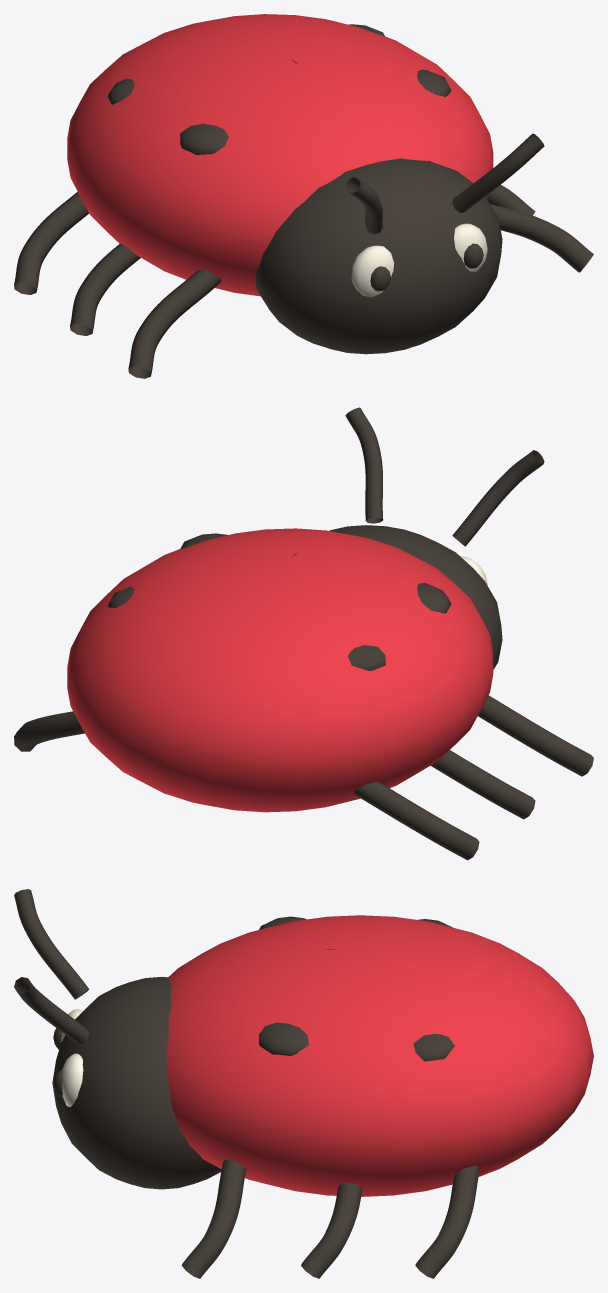
The model's file is bug.glb.
The picture shows the model from 3 angles, top to bottom: view 1: azimuth 30°, elevation 25°; view 2: azimuth 150°, elevation 25°; view 3: azimuth 270°, elevation 25°; orthographic projection. The views are drawn at different scales.
Parts seen in each view (by area): view 1: Bug | red domed shell.001, Bug | head.001, Bug | tiny leg.006, Bug | tiny leg.009, Bug | tiny leg.011, Bug | tiny leg.010, Bug | antenna.003, Bug | bright eye.003, Bug | black spot.005, Bug | antenna.002, Bug | bright eye.002, Bug | tiny leg.008 (+1 smaller); view 2: Bug | red domed shell.001, Bug | head.001, Bug | tiny leg.009, Bug | tiny leg.006, Bug | tiny leg.011, Bug | antenna.002, Bug | antenna.003, Bug | tiny leg.007, Bug | black spot.006, Bug | black spot.005; view 3: Bug | red domed shell.001, Bug | head.001, Bug | tiny leg.010, Bug | tiny leg.007, Bug | tiny leg.008, Bug | antenna.002, Bug | antenna.003, Bug | black spot.007, Bug | bright eye.002, Bug | black spot.004.
Boxes of the visible parts, box(x1,y1,x2,y2) form: Bug | red domed shell.001: box(67, 14, 493, 296); Bug | head.001: box(255, 158, 502, 354); Bug | tiny leg.006: box(128, 269, 221, 378); Bug | tiny leg.009: box(14, 192, 88, 294); Bug | tiny leg.011: box(70, 243, 140, 335); Bug | tiny leg.010: box(490, 204, 593, 272); Bug | antenna.003: box(452, 133, 544, 212); Bug | bright eye.003: box(351, 245, 394, 297); Bug | black spot.005: box(180, 123, 228, 154); Bug | antenna.002: box(345, 177, 383, 234); Bug | bright eye.002: box(454, 223, 487, 271); Bug | tiny leg.008: box(486, 185, 535, 215); Bug | red domed shell.001: box(67, 528, 493, 812); Bug | head.001: box(329, 525, 502, 669); Bug | tiny leg.009: box(353, 781, 479, 860); Bug | tiny leg.006: box(478, 695, 593, 776); Bug | tiny leg.011: box(431, 750, 535, 819); Bug | antenna.002: box(452, 450, 544, 546); Bug | antenna.003: box(345, 407, 383, 523); Bug | tiny leg.007: box(14, 711, 84, 751); Bug | black spot.006: box(347, 645, 385, 670); Bug | black spot.005: box(417, 583, 451, 613); Bug | red domed shell.001: box(166, 915, 593, 1196); Bug | head.001: box(52, 976, 221, 1189); Bug | tiny leg.010: box(181, 1159, 246, 1278); Bug | tiny leg.007: box(415, 1166, 480, 1278); Bug | tiny leg.008: box(301, 1182, 362, 1278); Bug | antenna.002: box(14, 889, 89, 999); Bug | antenna.003: box(14, 977, 89, 1043); Bug | black spot.007: box(258, 1022, 308, 1055); Bug | bright eye.002: box(62, 1053, 83, 1106); Bug | black spot.004: box(413, 1033, 454, 1061).
Size of the model in its own units: 1.1 by 0.5323 by 1.17.
